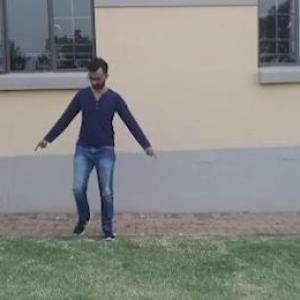land: (37, 60, 161, 248)
